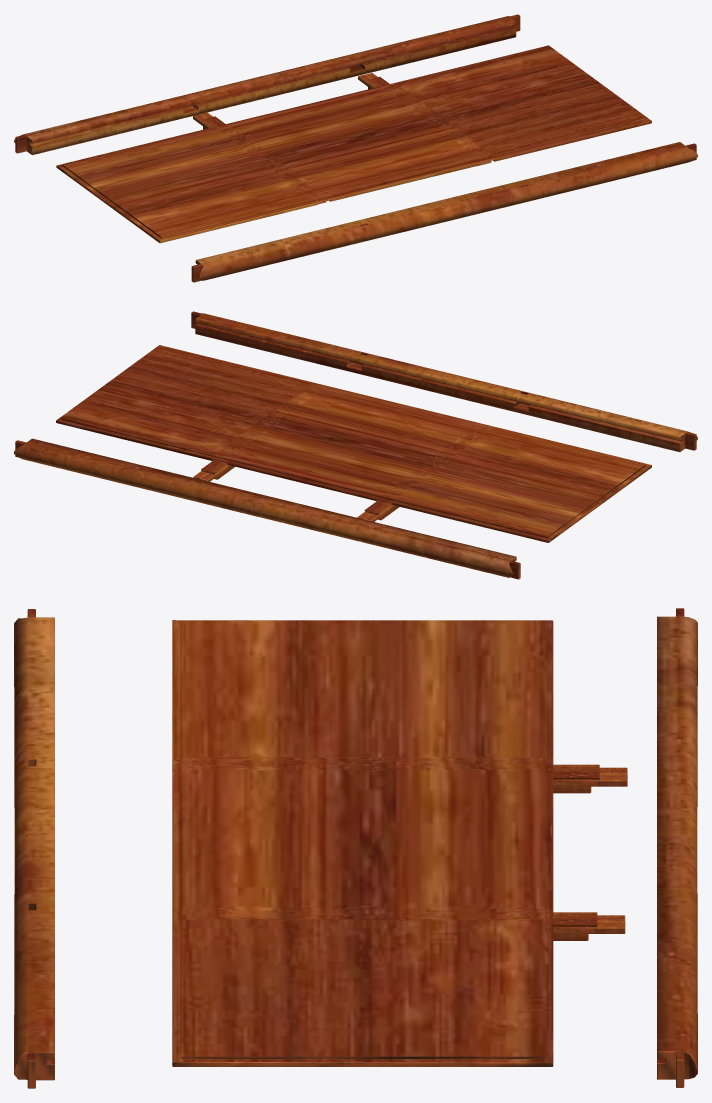
The model's file is SJ_J_cengban_02.FBX.
The picture shows the model from 3 angles, top to bottom: view 1: azimuth 30°, elevation 25°; view 2: azimuth 150°, elevation 25°; view 3: azimuth 270°, elevation 25°; orthographic projection. The views are drawn at different scales.
Visible parts, largest first — view 1: SJ_J_cengban_02, SJ_J_dgdb_2_01, SJ_J_dgdb_2_02; view 2: SJ_J_cengban_02, SJ_J_dgdb_2_01, SJ_J_dgdb_2_02, SJ_J_dgcd_08, SJ_J_dgcd_07; view 3: SJ_J_cengban_02, SJ_J_dgdb_2_02, SJ_J_dgdb_2_01, SJ_J_dgcd_08, SJ_J_dgcd_07.
Part boxes in pixels (bbox=[...]): SJ_J_cengban_02: bbox=[56, 45, 651, 243]; SJ_J_dgdb_2_01: bbox=[14, 14, 520, 155]; SJ_J_dgdb_2_02: bbox=[191, 142, 697, 282]; SJ_J_cengban_02: bbox=[56, 345, 651, 542]; SJ_J_dgdb_2_01: bbox=[14, 438, 520, 579]; SJ_J_dgdb_2_02: bbox=[191, 311, 697, 452]; SJ_J_dgcd_08: bbox=[357, 500, 399, 521]; SJ_J_dgcd_07: bbox=[193, 460, 234, 481]; SJ_J_cengban_02: bbox=[172, 620, 553, 1066]; SJ_J_dgdb_2_02: bbox=[14, 609, 54, 1088]; SJ_J_dgdb_2_01: bbox=[657, 608, 697, 1087]; SJ_J_dgcd_08: bbox=[553, 764, 627, 793]; SJ_J_dgcd_07: bbox=[553, 912, 625, 940].
Size of the model in its own units: 103 by 3.05 by 65.71.
